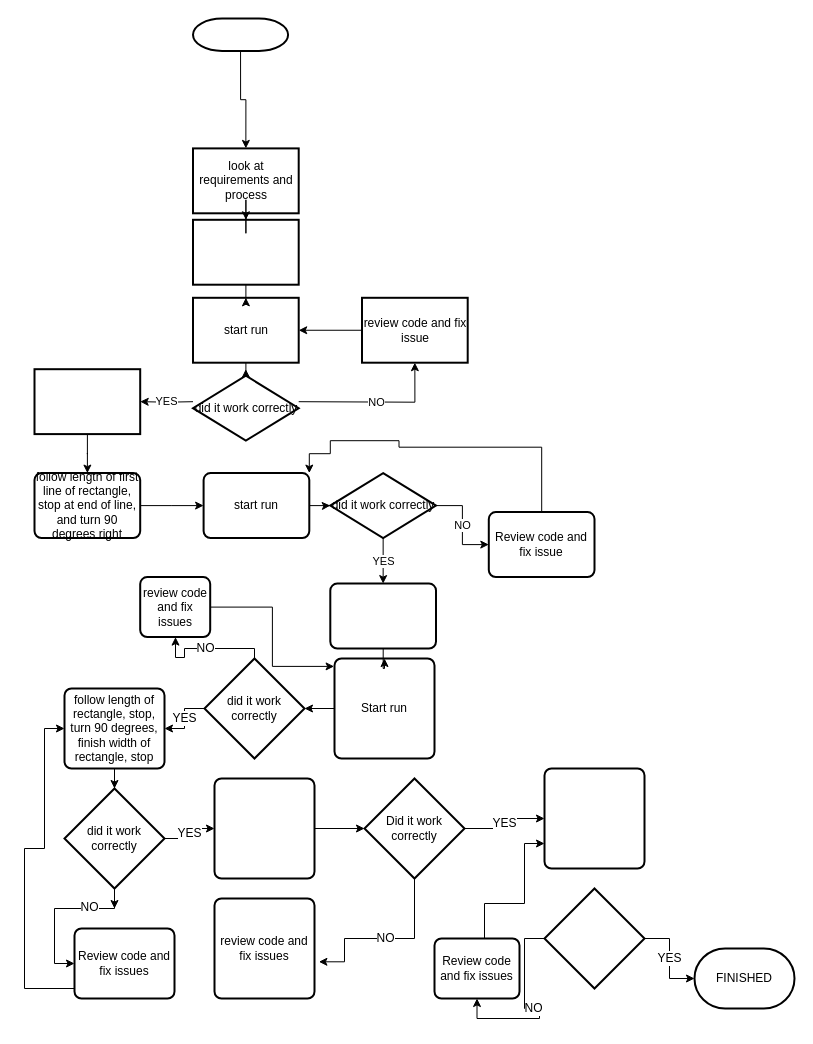
Some shapes in this 813 by 1044 pixel diagram are drawn without their labels. The shapes that lost their labels are listed below. From the top down, each one's centre as x and y in pixels, then its label:
pixel 240 34: start
pixel 245 251: change LED to green and say "ready set go"
pixel 87 401: move to next step
pixel 382 615: follow width of rectangle, stop at end of line, and turn 90 degrees right
pixel 264 828: Change light to red, and speak "I'm done and need water"
pixel 594 818: Run code all together and take video of finished product
pixel 594 938: is product correctly made?
